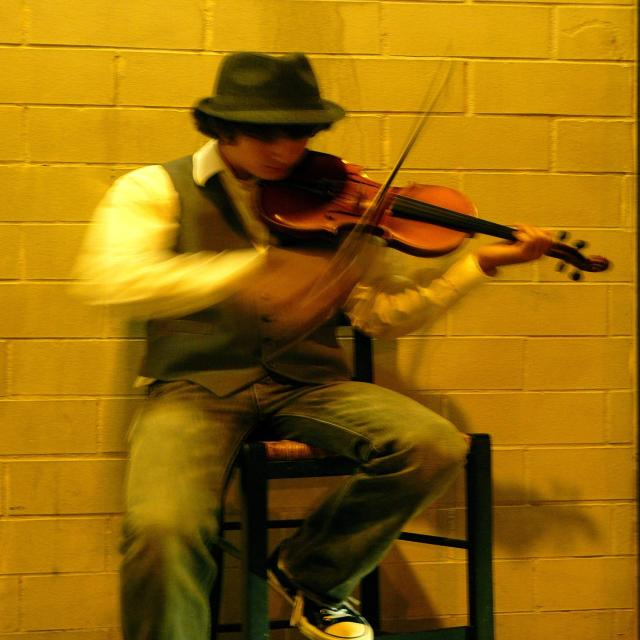violin: (253, 144, 619, 286)
